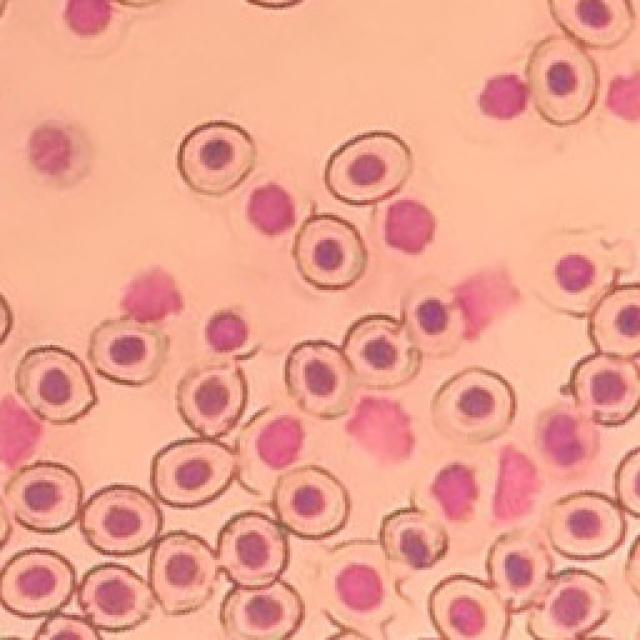RBC: (570, 284, 640, 425), (236, 406, 338, 497), (530, 231, 620, 316), (321, 540, 394, 640), (432, 368, 516, 442), (325, 131, 410, 204), (528, 36, 598, 124), (18, 346, 95, 422), (151, 439, 235, 507), (342, 315, 420, 388), (81, 485, 161, 555), (529, 570, 608, 640), (179, 121, 254, 194), (150, 531, 216, 613), (294, 215, 366, 289), (274, 466, 349, 537), (178, 361, 248, 437), (219, 512, 288, 588), (429, 575, 509, 640), (6, 462, 81, 531), (285, 341, 352, 418), (90, 319, 168, 385), (549, 491, 625, 558), (488, 531, 551, 611), (0, 549, 74, 616), (221, 581, 302, 640), (79, 564, 151, 630), (380, 509, 448, 569), (549, 0, 632, 48), (405, 294, 465, 356), (615, 448, 640, 516), (35, 615, 100, 640)
WBC: (454, 268, 520, 339), (346, 396, 414, 461), (494, 446, 539, 520), (121, 268, 182, 322), (0, 395, 42, 468), (431, 464, 478, 520), (385, 200, 435, 252), (542, 411, 585, 465), (248, 184, 294, 234), (480, 74, 529, 119), (30, 126, 72, 176), (206, 311, 248, 351), (65, 0, 111, 35), (608, 72, 640, 119)
